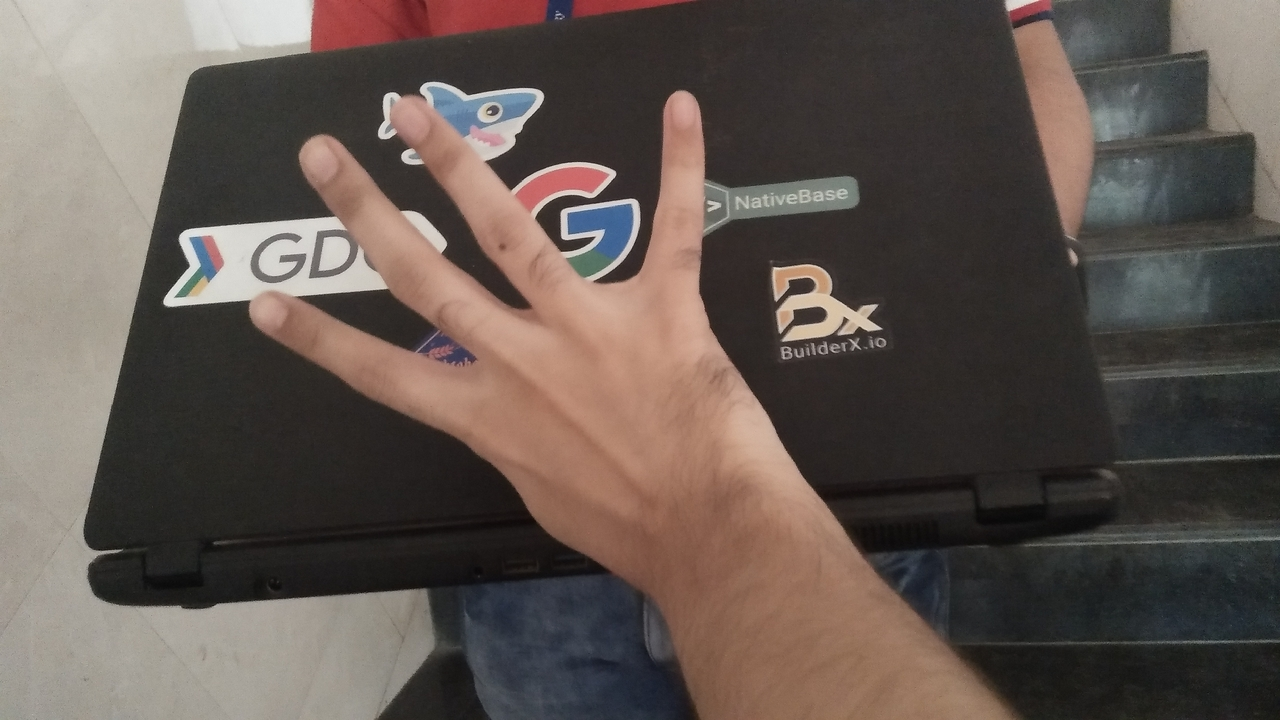fingertip: (370, 80, 448, 148), (230, 276, 308, 340), (286, 128, 354, 186), (654, 84, 710, 128)
